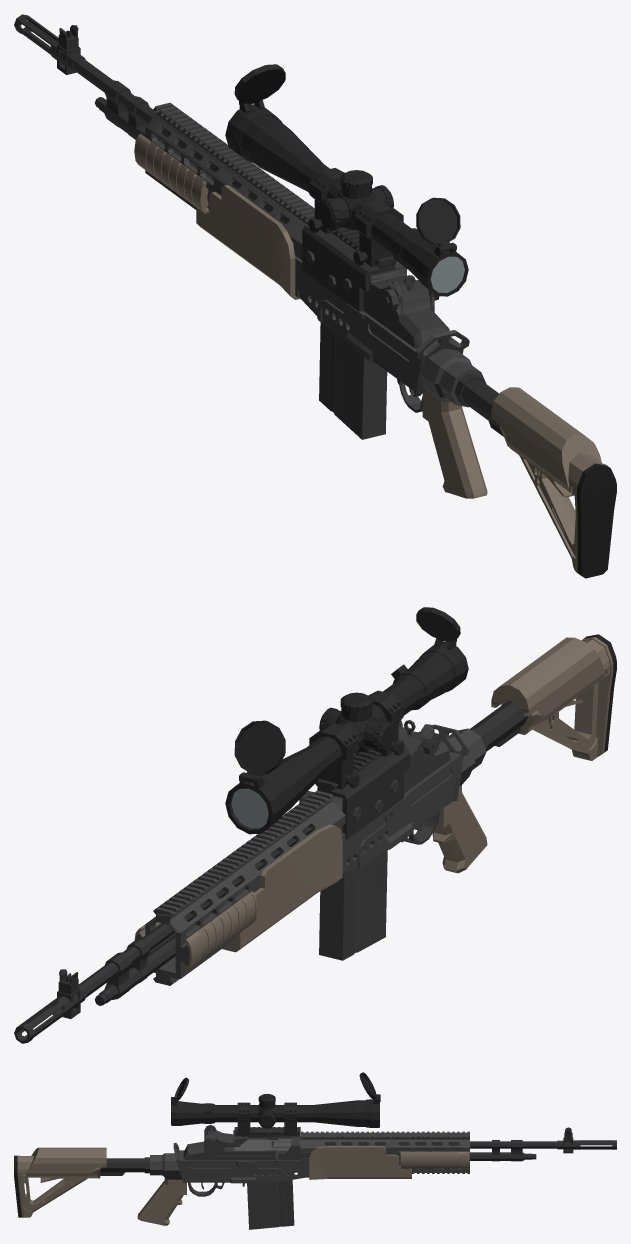
Rendered from M21 EBR.glb.
The picture shows the model from 3 angles, top to bottom: view 1: azimuth 30°, elevation 25°; view 2: azimuth 150°, elevation 25°; view 3: azimuth 270°, elevation 25°; orthographic projection. The views are drawn at different scales.
Parts seen in each view (by area): view 1: Body_MK14, Magpul_Stock, Scope_MK4.001, handguard, Magazine_Standard, Magpul_Cheek_Attach, grip, Reciever, Side_Rail_Attachment, Pic_Rail_Top, Rail_Cover_Side_Short_Left, Stock_Mount (+10 smaller); view 2: Body_MK14, handguard, Scope_MK4.001, Magazine_Standard, Magpul_Cheek_Attach, Magpul_Stock, Pic_Rail_Top, Side_Rail_Attachment, grip, Cover_Front, Rail_Cover_Side_Short_Left, Barrel_Long (+16 smaller); view 3: Body_MK14, handguard, Scope_MK4.001, Magazine_Standard, Magpul_Cheek_Attach, Reciever, Magpul_Stock, Pic_Rail_Top, grip, Rail_Cover_Side_Short_Right, Barrel_Long, Buffer_Tube (+14 smaller).
Boxes of the visible parts, x1,y1,x2,y2 form: Body_MK14: (145,114,459,390); Magpul_Stock: (500,426,616,578); Scope_MK4.001: (240,115,467,295); handguard: (196,185,300,299); Magazine_Standard: (319,322,387,439); Magpul_Cheek_Attach: (491,387,601,491); grip: (422,390,487,498); Reciever: (363,267,450,349); Side_Rail_Attachment: (302,224,395,311); Pic_Rail_Top: (153,102,314,224); Rail_Cover_Side_Short_Left: (134,134,208,213); Stock_Mount: (419,348,486,407); Body_MK14: (145,752,461,978); handguard: (222,813,342,952); Scope_MK4.001: (227,652,455,832); Magazine_Standard: (319,850,387,960); Magpul_Cheek_Attach: (491,637,605,720); Magpul_Stock: (501,634,616,760); Pic_Rail_Top: (153,790,334,919); Side_Rail_Attachment: (317,748,410,839); grip: (432,785,487,873); Cover_Front: (234,720,285,782); Rail_Cover_Side_Short_Left: (183,891,257,971); Barrel_Long: (73,826,312,1007); Body_MK14: (179,1136,469,1183); handguard: (309,1146,411,1179); Scope_MK4.001: (171,1100,379,1126); Magazine_Standard: (247,1172,294,1229); Magpul_Cheek_Attach: (26,1147,106,1176); Reciever: (183,1125,300,1160); Magpul_Stock: (14,1155,100,1217); Pic_Rail_Top: (301,1131,469,1139); grip: (137,1179,186,1225); Rail_Cover_Side_Short_Right: (400,1151,469,1168); Barrel_Long: (325,1140,570,1149); Buffer_Tube: (100,1157,149,1175).
Bounding box in the file's own units: 0.0188 × 0.067 × 0.239.
Materials: 11 (11 with a texture image).
